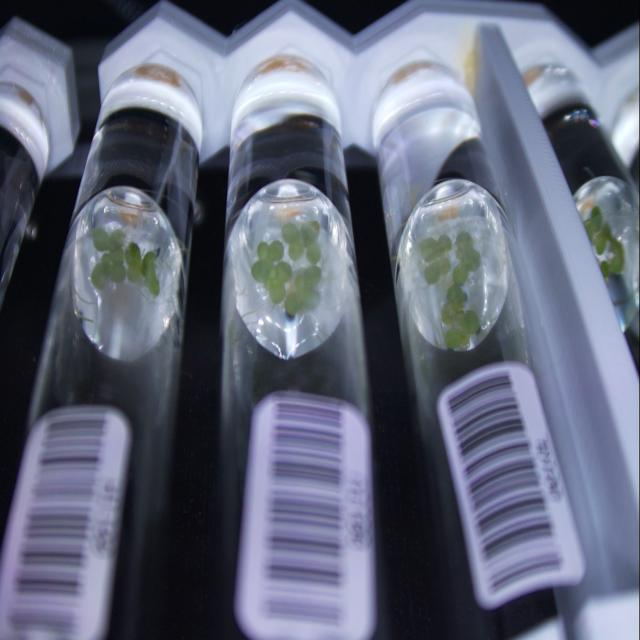Lemna-Gibba: (124, 242, 160, 297), (281, 220, 321, 265), (285, 265, 321, 315), (452, 232, 481, 285), (420, 235, 451, 284), (251, 240, 284, 283), (445, 310, 480, 349), (91, 254, 126, 289), (265, 260, 292, 304), (441, 284, 468, 325), (92, 228, 125, 252), (110, 248, 124, 264)
